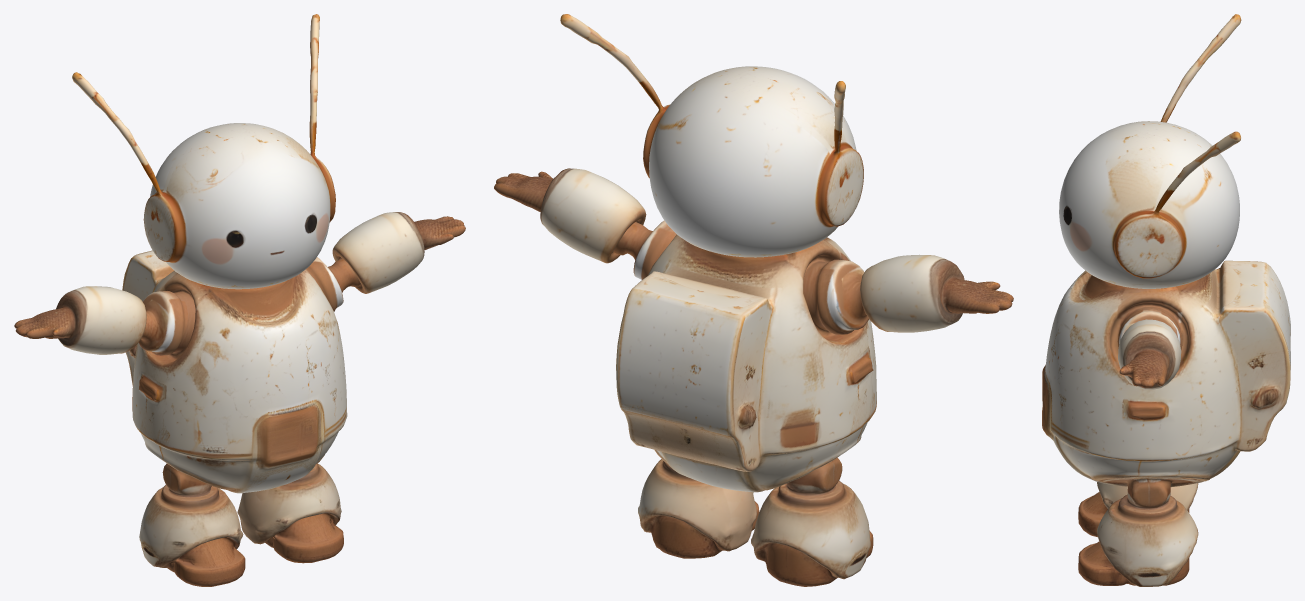
File: adorable-chubby-robot.glb
The picture shows the model from 3 angles, left to right: view 1: azimuth 30°, elevation 25°; view 2: azimuth 150°, elevation 25°; view 3: azimuth 270°, elevation 25°; orthographic projection. The views are drawn at different scales.
Parts seen in each view (by area): view 1: model_0; view 2: model_0; view 3: model_0.
Boxes of the visible parts, x1,y1,x2,y2 form: model_0: (14, 14, 465, 586); model_0: (494, 14, 1013, 586); model_0: (1042, 14, 1290, 586).
Size of the model in its own units: 1.88 by 1.91 by 0.9005.
Materials: 1 (1 with a texture image).
